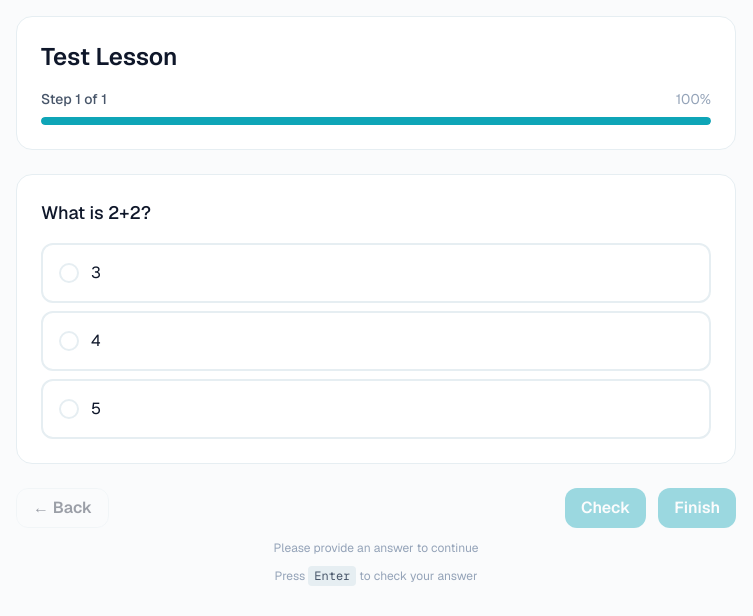
Test: LessonPlayer › UX Rules › should disable Next button on interactive step until checked
expect the text "What is 2+2?" is shown: met, box [41,201,151,224]
expect the button "Check" is disabled: met, box [565,488,646,528]
Select an option
Click the button "4". click: (69, 341)
box: [41,311,711,371]
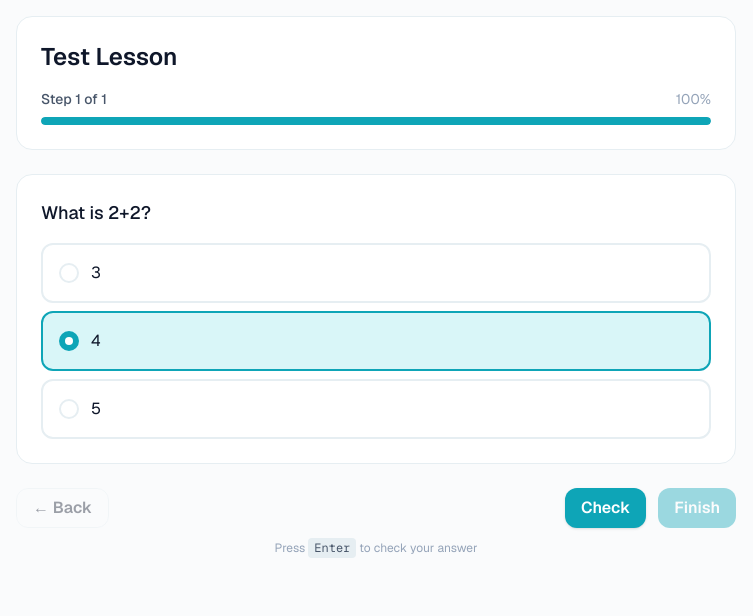
expect the button "Check" is enabled: met
Click check
Click the button "Check". click: (606, 508)
box: [565,488,646,528]
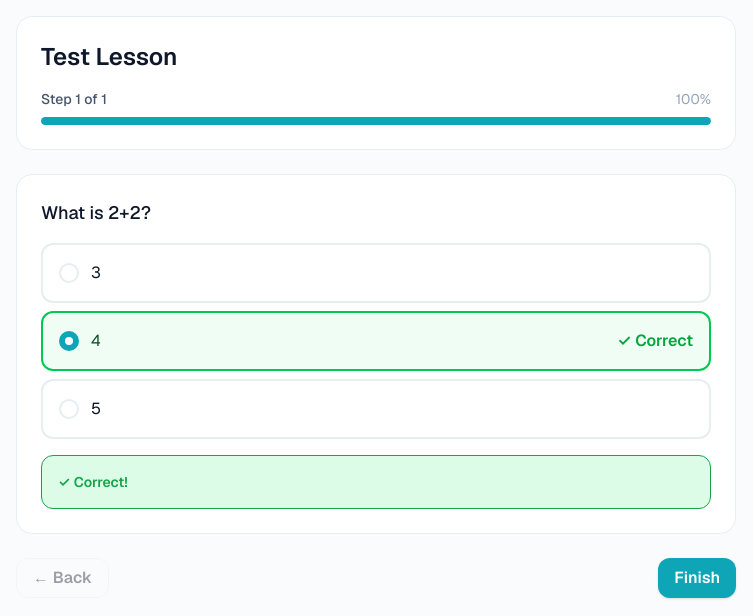
expect the text "✓ Correct" is shown: met, box [617,329,693,353]
